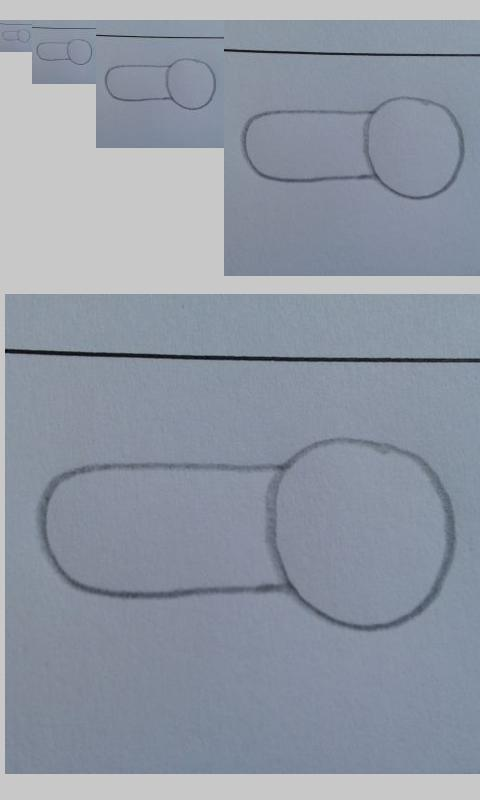switch: (34, 436, 458, 632), (241, 95, 465, 201), (105, 58, 217, 111), (35, 38, 93, 66), (1, 29, 31, 44)
